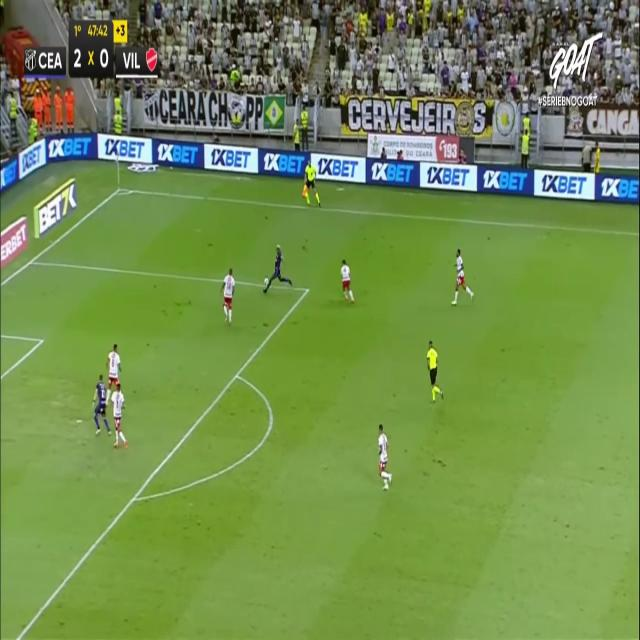ball: (263, 276, 270, 289)
player: (262, 244, 292, 294), (450, 247, 474, 305), (92, 373, 112, 435), (110, 381, 128, 448), (105, 342, 122, 406), (377, 423, 391, 490), (220, 268, 235, 324), (340, 258, 354, 302)
referee: (426, 339, 444, 403), (301, 158, 321, 207)
